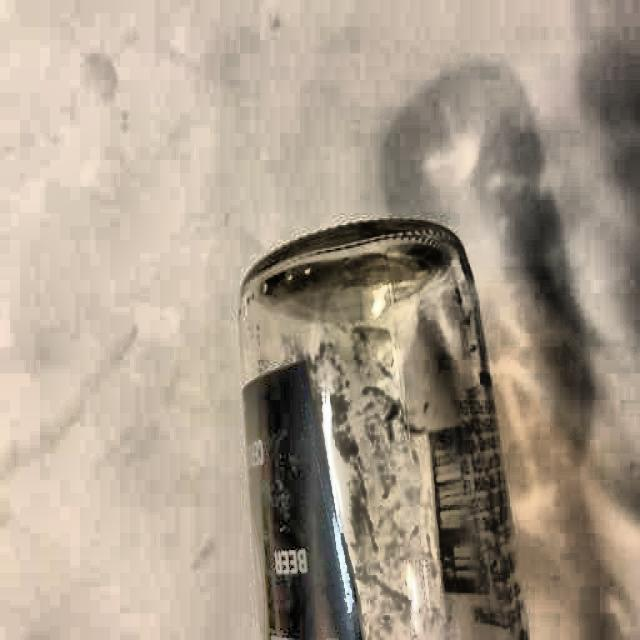glass: (237, 218, 534, 640)
